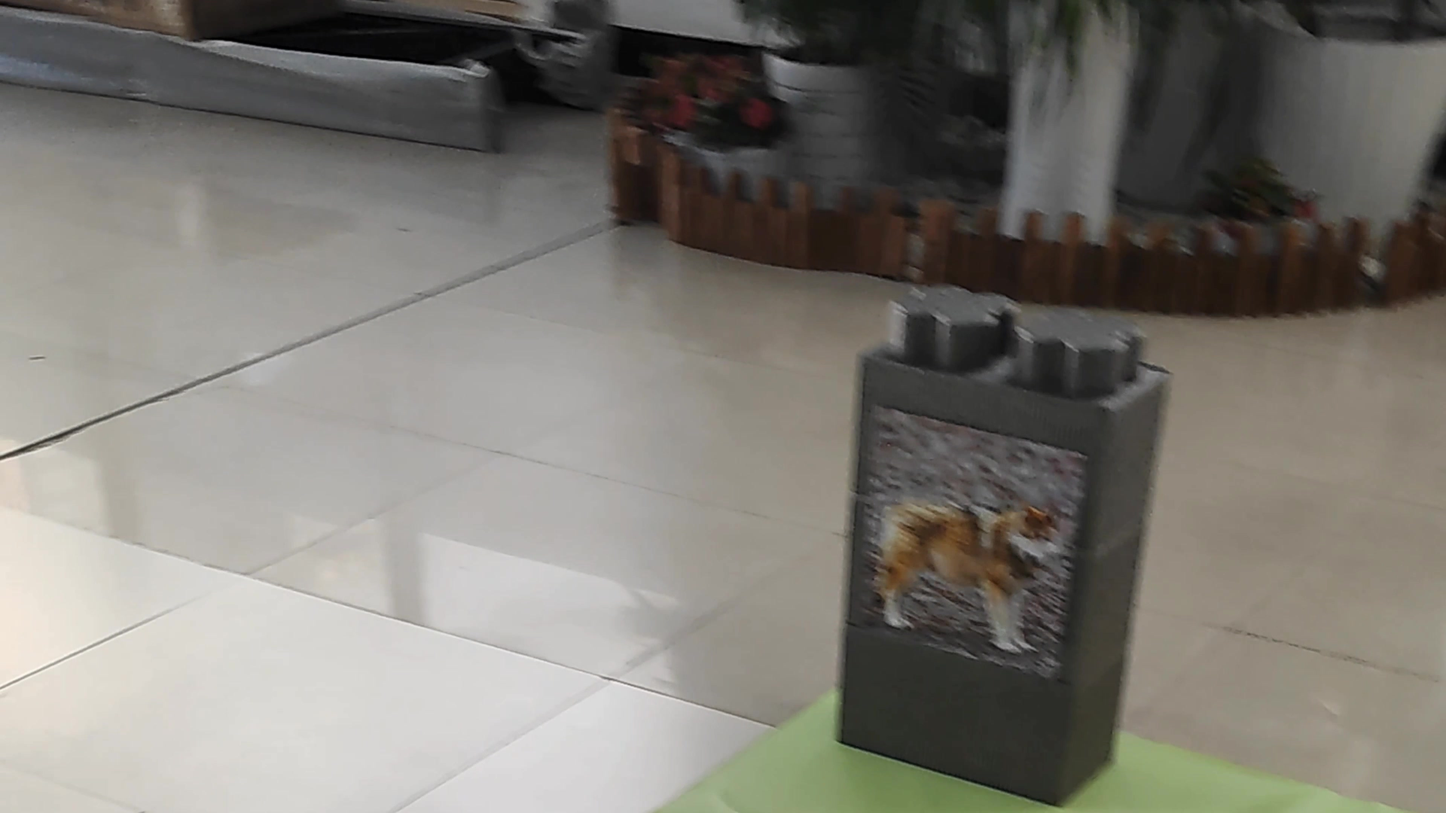wolf: (864, 484, 1070, 662)
